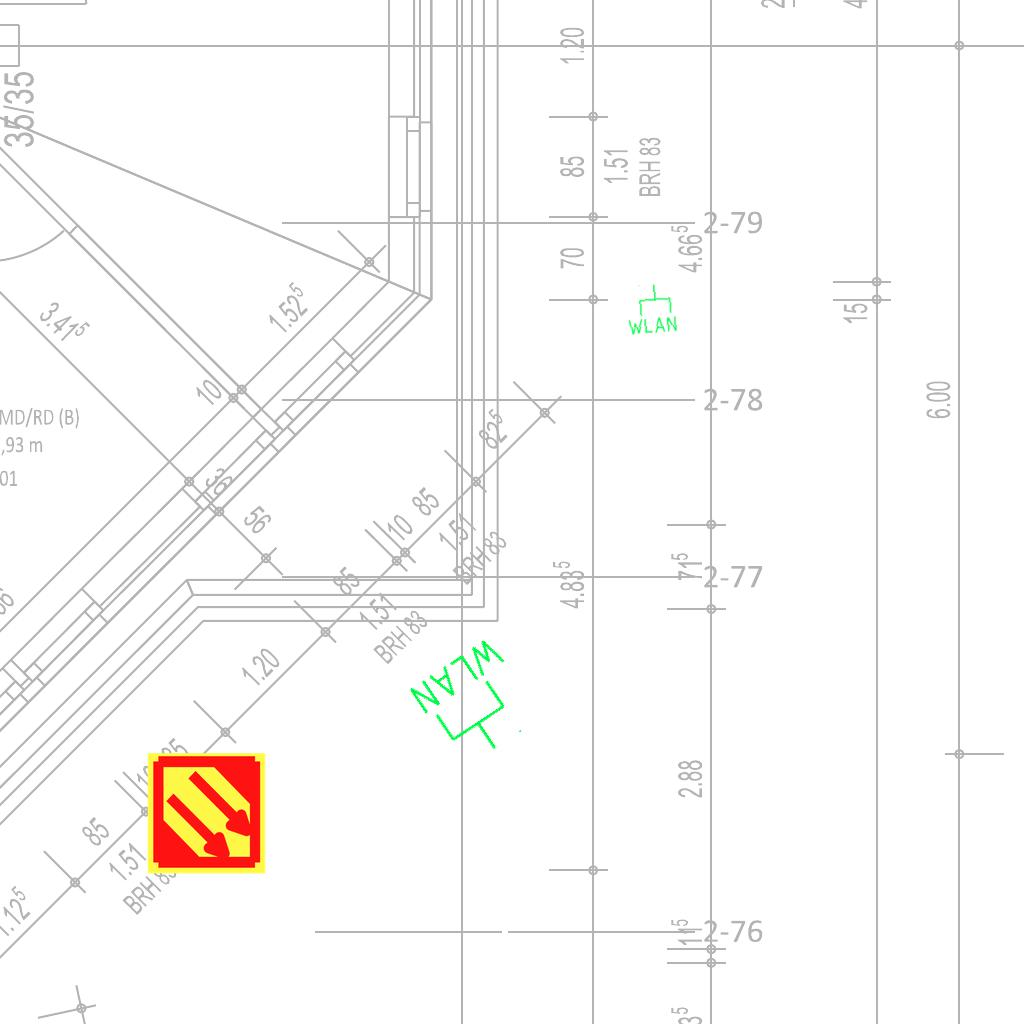ASR_Ansaugrauchmelder: (144, 751, 269, 876)
WLAN: (403, 630, 549, 775), (622, 280, 680, 338)
